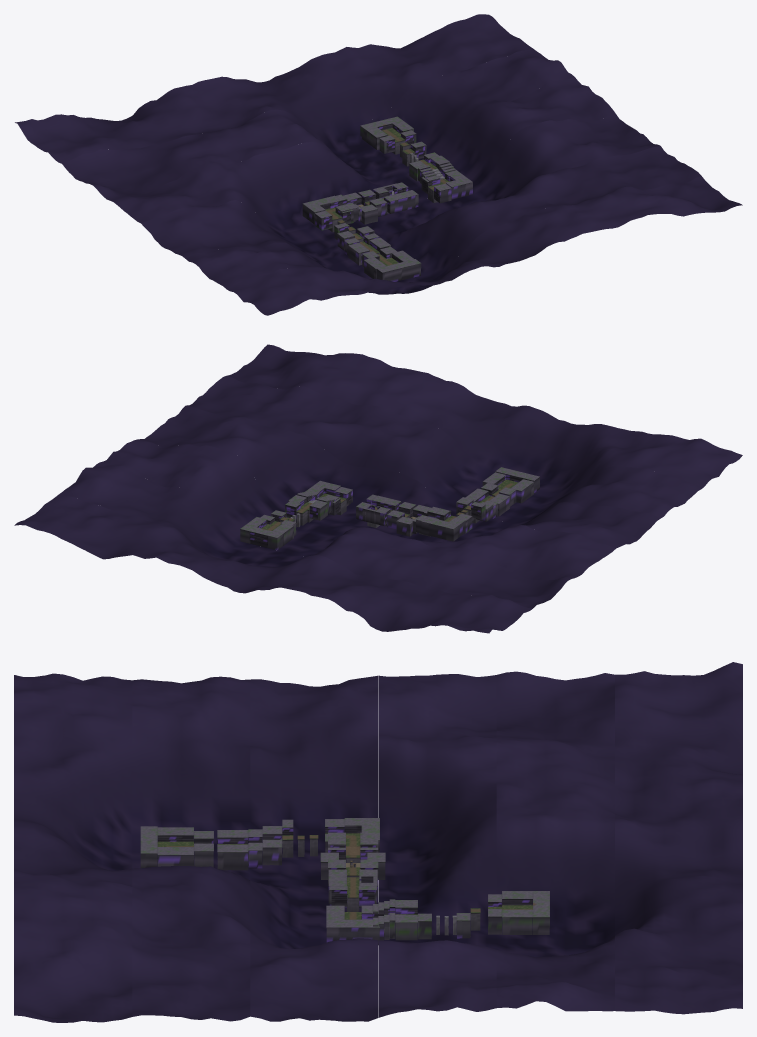
Rendered from haunted_hollow_terrain.glb.
3 views of the same model, one above another, from view 1: azimuth 30°, elevation 25°; view 2: azimuth 150°, elevation 25°; view 3: azimuth 270°, elevation 25° (orthographic). The views are drawn at different scales.
Parts seen in each view (by area): view 1: backdrop_5, backdrop_3, backdrop_4, backdrop_2, backdrop_1, backdrop_0, terrain_E, terrain_H, terrain_A, terrain_I, terrain_J, terrain_B (+4 smaller); view 2: backdrop_0, backdrop_1, backdrop_5, backdrop_4, backdrop_2, backdrop_3, terrain_E, terrain_J, terrain_H, terrain_A, terrain_F, terrain_B (+3 smaller); view 3: backdrop_5, backdrop_0, backdrop_4, backdrop_3, backdrop_1, backdrop_2, terrain_H, terrain_E, terrain_A, terrain_J, terrain_B, terrain_C (+4 smaller).
Boxes of the visible parts, x1,y1,x2,y2 form: backdrop_5: (15,14,533,162); backdrop_3: (100,77,615,231); backdrop_4: (59,49,574,194); backdrop_2: (141,114,659,264); backdrop_1: (185,145,701,293); backdrop_0: (227,176,742,315); terrain_E: (302,189,387,224); terrain_H: (409,155,472,199); terrain_A: (364,250,421,281); terrain_I: (379,130,439,166); terrain_J: (360,116,413,149); terrain_B: (348,237,397,266); backdrop_0: (227,344,742,492); backdrop_1: (187,375,701,524); backdrop_5: (14,494,533,633); backdrop_4: (59,462,574,607); backdrop_2: (141,405,660,548); backdrop_3: (100,439,615,580); terrain_E: (387,502,465,541); terrain_J: (240,517,293,550); terrain_H: (288,480,340,522); terrain_A: (482,467,539,503); terrain_F: (361,495,401,527); terrain_B: (468,483,516,516); backdrop_5: (615,662,742,1014); backdrop_0: (14,673,132,1022); backdrop_4: (496,671,614,1011); backdrop_3: (378,674,496,1017); backdrop_1: (132,676,250,1021); backdrop_2: (250,675,378,1021); terrain_H: (326,899,417,944); terrain_E: (320,818,385,885); terrain_A: (140,826,193,868); terrain_J: (502,891,549,934); terrain_B: (194,830,248,870); terrain_C: (248,819,293,868).
Bounding box in the file's own units: 560 × 62.49 × 518.
